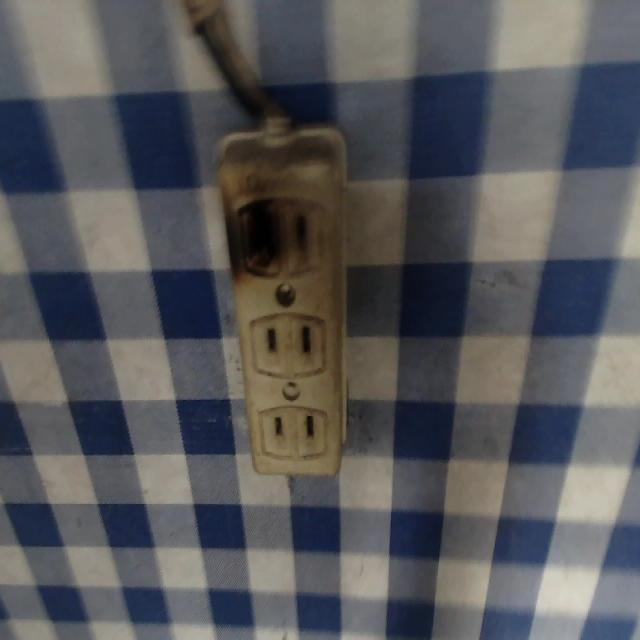-: (226, 202, 285, 278)
